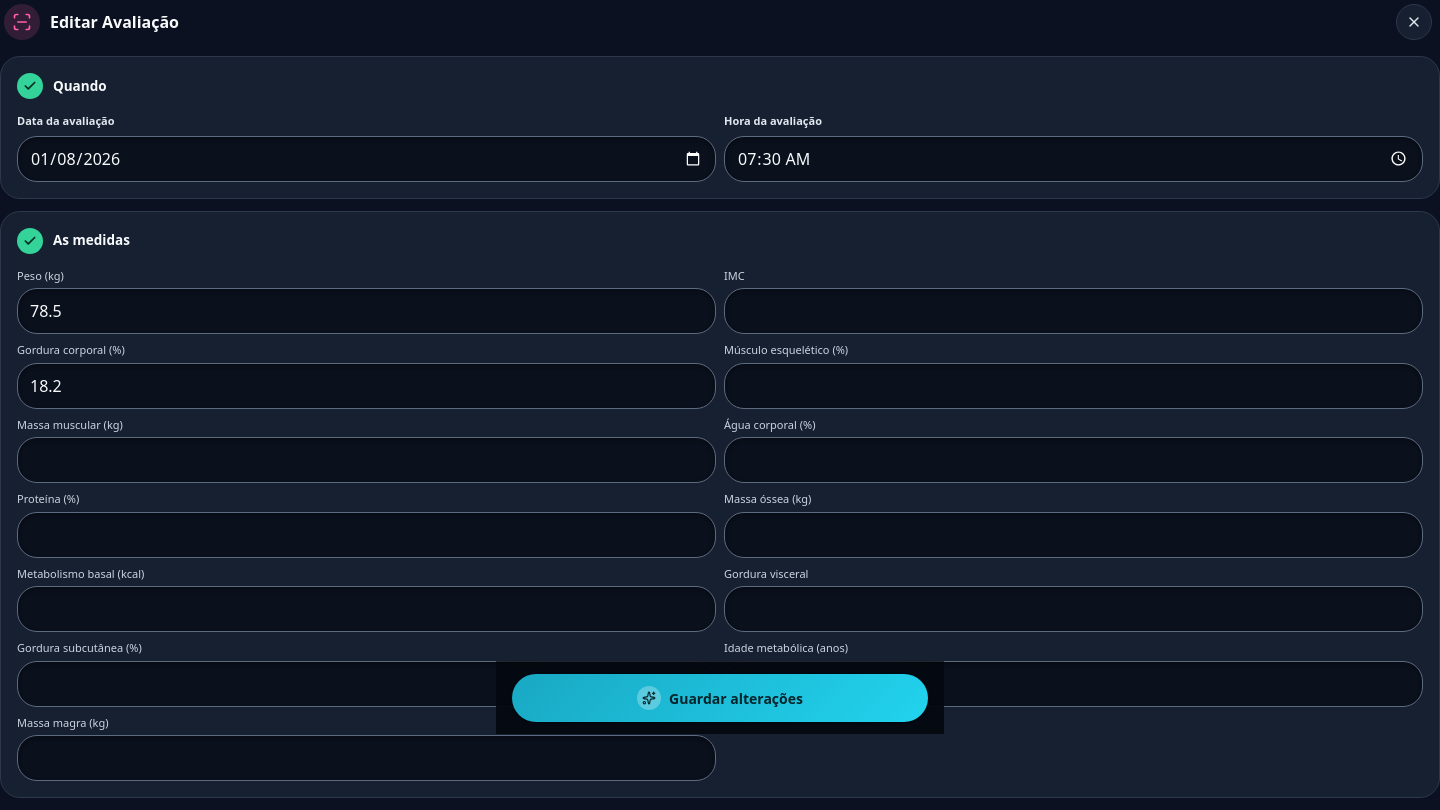
BodyRegistration — guarda de navegação com formulário sujo › trocar de separador com o formulário sujo mostra o aviso em vez de navegar logo
Replace the text in the number field labelled "Peso (kg)" with "77.0": (366, 311) [17,288,716,334]
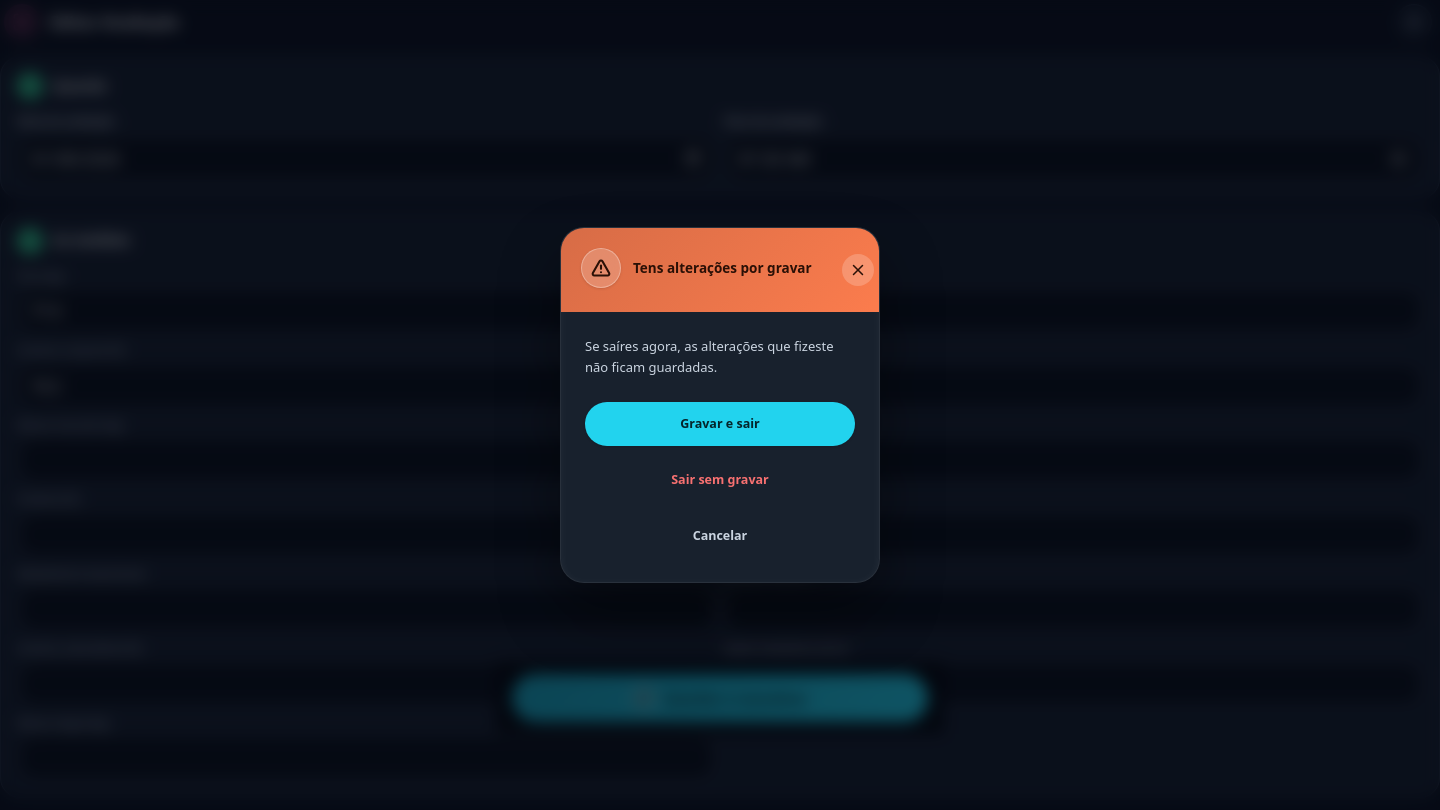
Result: the heading "Tens alterações por gravar" is shown at [633,261,812,276]
